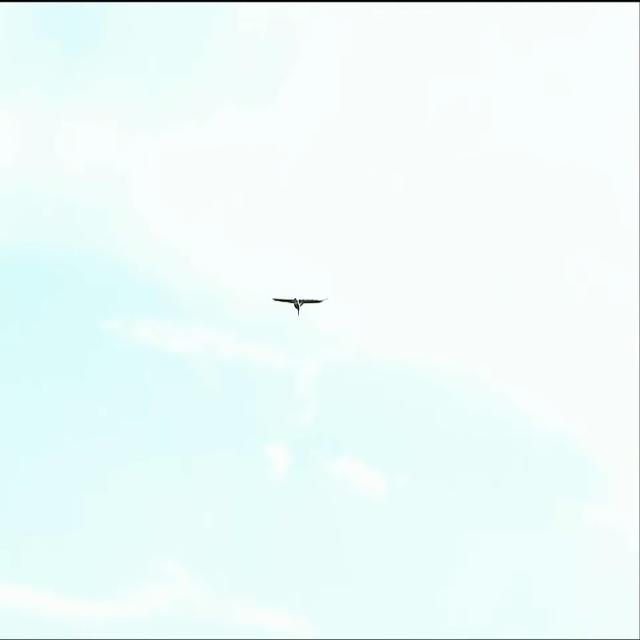iha: (272, 294, 327, 316)
